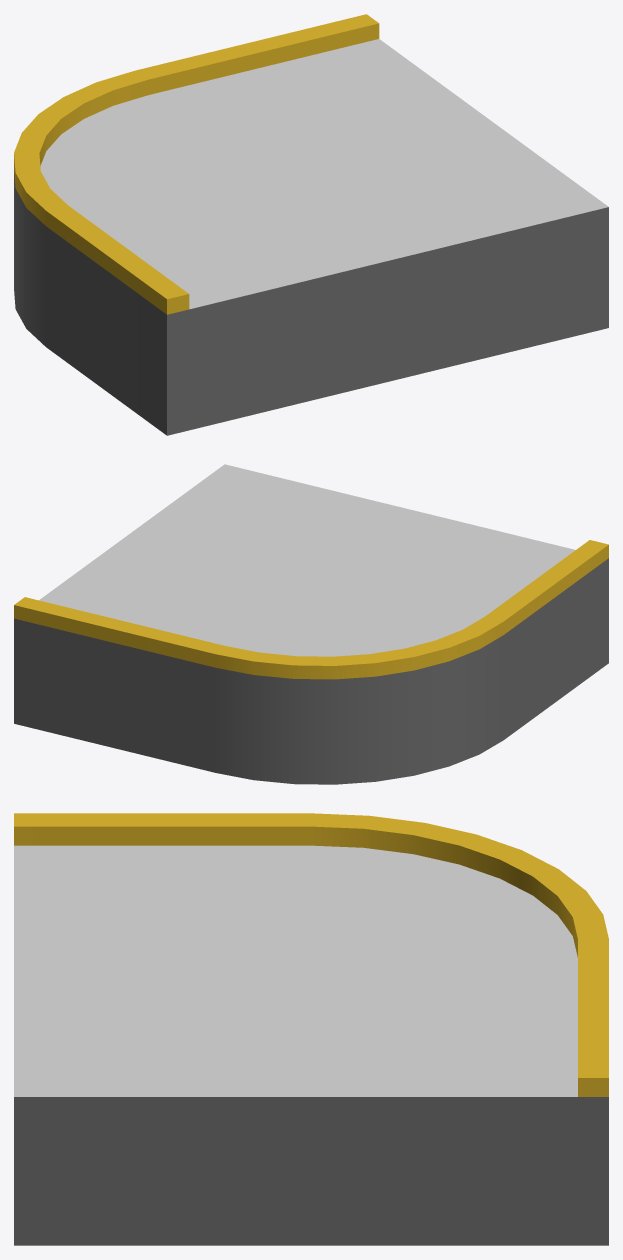
File: Platform_TurnRightRound.fbx
3 renders of one model, top to bottom at view 1: azimuth 30°, elevation 25°; view 2: azimuth 150°, elevation 25°; view 3: azimuth 270°, elevation 25°, orthographic. The views are drawn at different scales.
Visible parts, largest first — view 1: Platform_TurnRightRound; view 2: Platform_TurnRightRound; view 3: Platform_TurnRightRound.
Boxes of the visible parts, x1=… form: Platform_TurnRightRound: x1=14, y1=14, x2=608, y2=435; Platform_TurnRightRound: x1=14, y1=464, x2=608, y2=784; Platform_TurnRightRound: x1=14, y1=813, x2=608, y2=1245.
Bounding box in the file's own units: 1192 × 352 × 1133.
